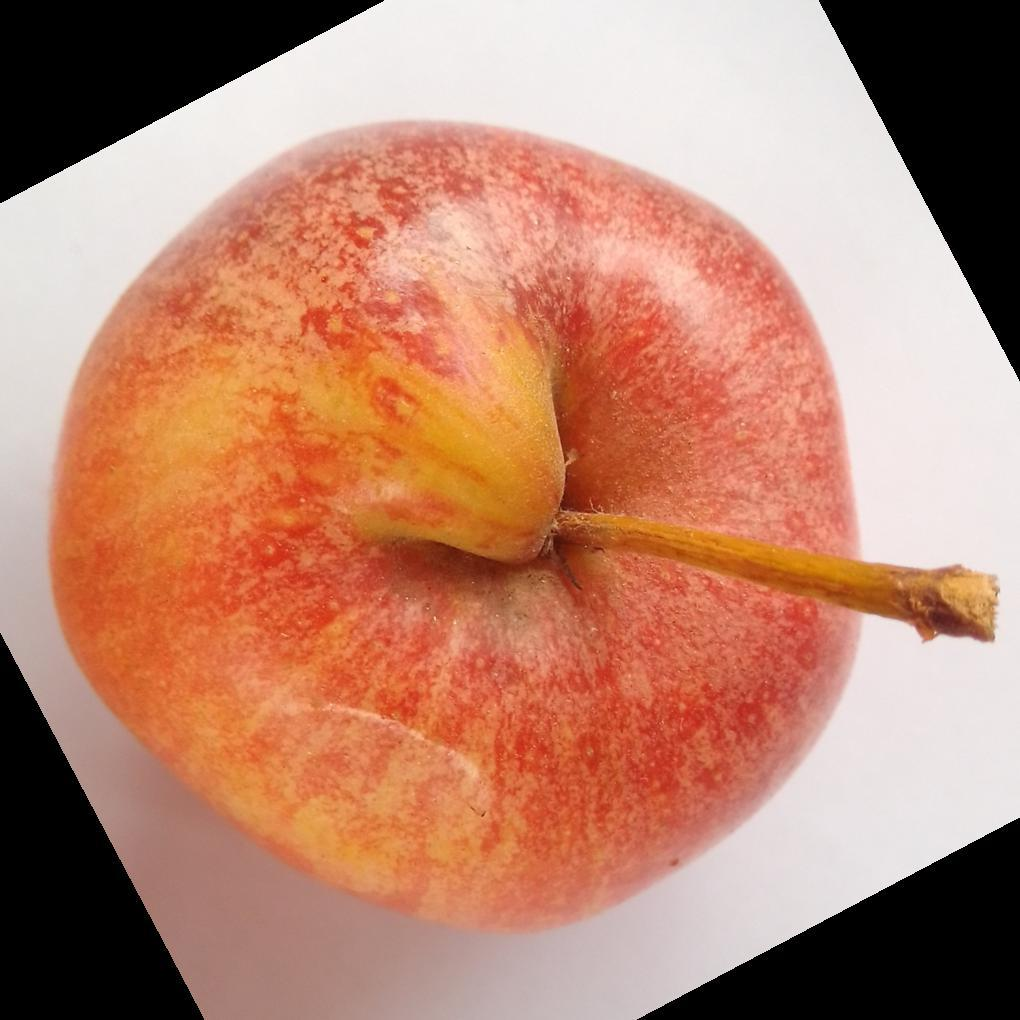FreshGuava: (45, 121, 995, 937)
